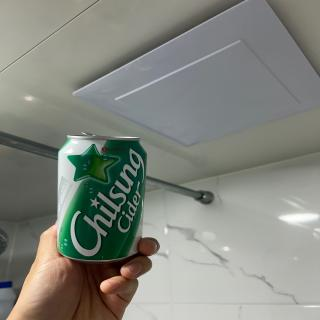cocacola: (54, 129, 148, 263)
